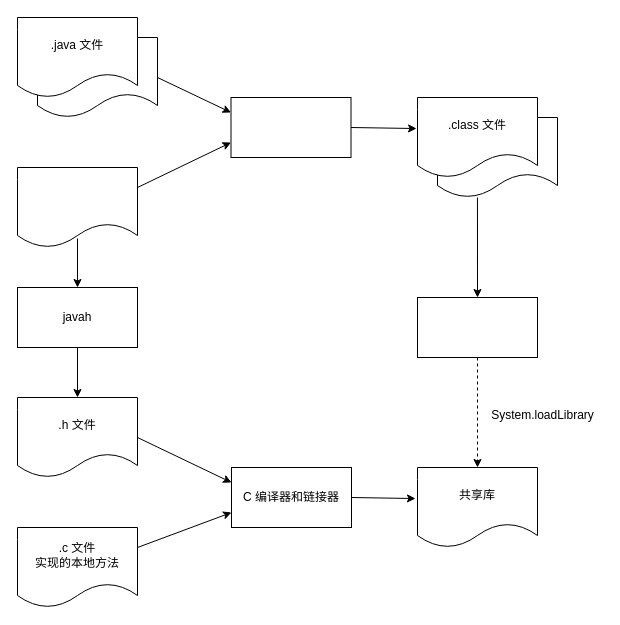
Some shapes in this 620 by 625 pixel diagram are drawn without their labels. Each missing label, with the centre of its shape:
".java 文件 声明的本地方法" belongs at point (77, 207).
"Java 虚拟机" belongs at point (477, 327).
"javac" belongs at point (290, 127).
